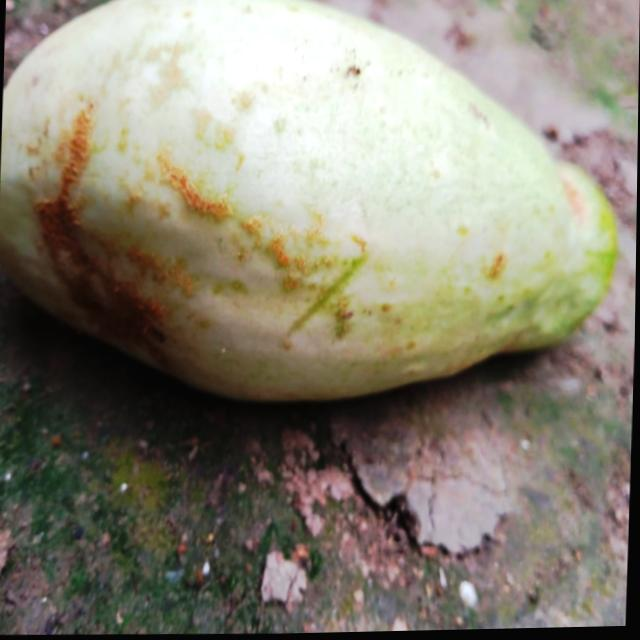Belly-Rot: (27, 86, 241, 382)
